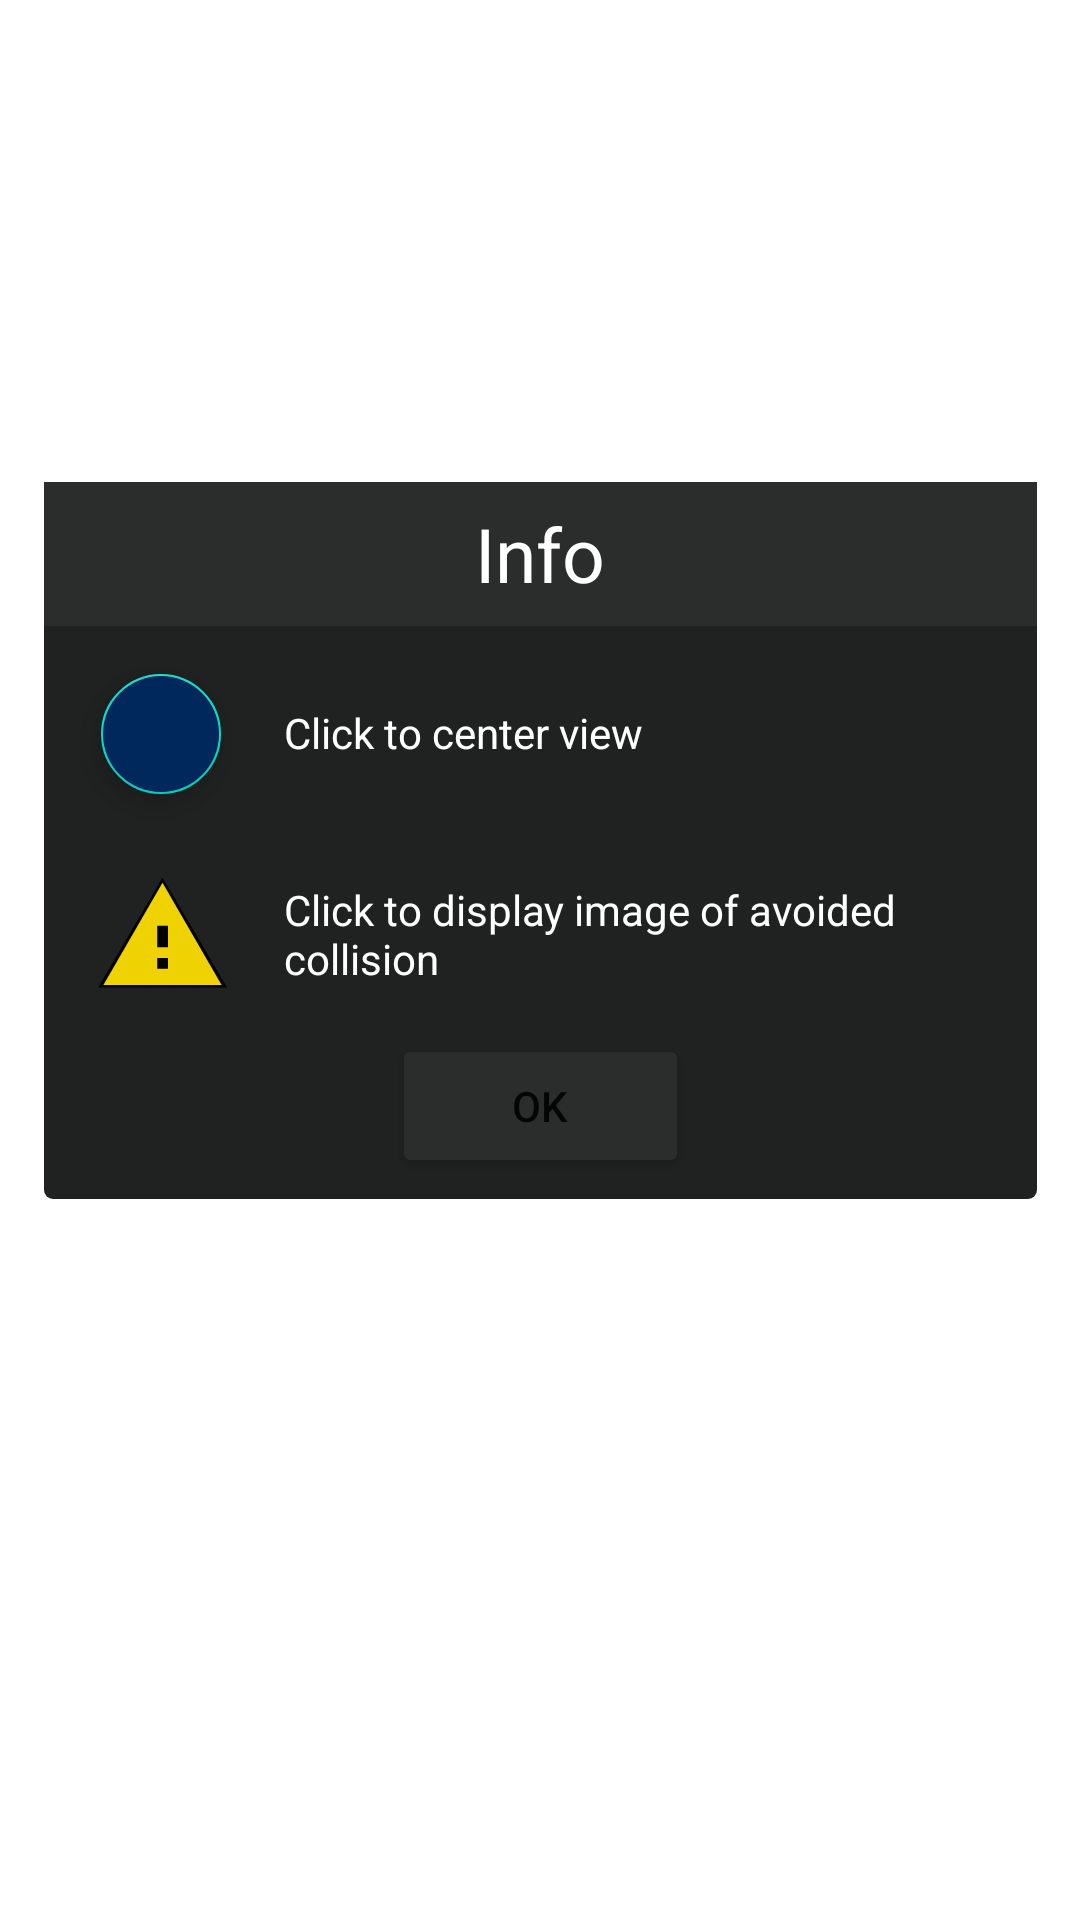

Where to tap for icons on this 1080 x 1920 app screen, as (x=x, y=y):
warning: (x=162, y=932)
